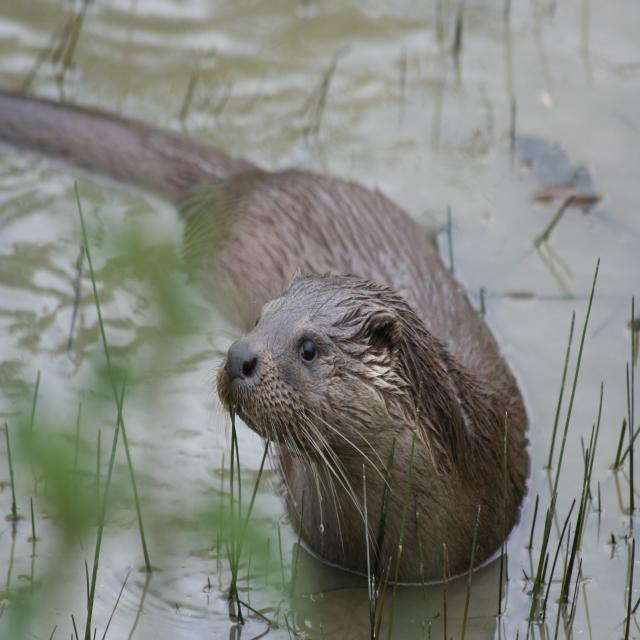otter: (219, 262, 527, 581)
